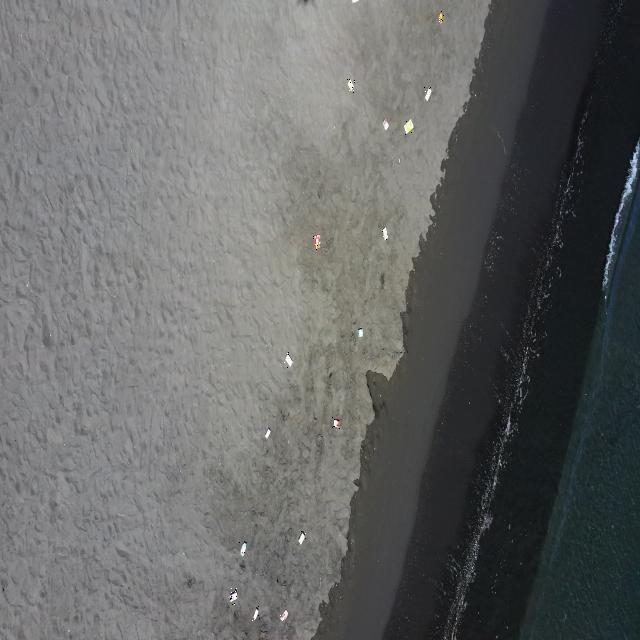retort-pouch: (403, 118, 414, 137), (284, 352, 294, 369), (239, 541, 248, 558), (381, 225, 390, 242), (279, 608, 289, 623), (313, 233, 321, 251), (297, 530, 306, 546), (424, 86, 433, 102), (230, 588, 238, 605), (347, 77, 355, 93), (252, 606, 260, 621), (381, 116, 388, 132), (332, 417, 340, 430), (264, 426, 271, 440), (357, 326, 363, 338), (438, 11, 443, 25)
